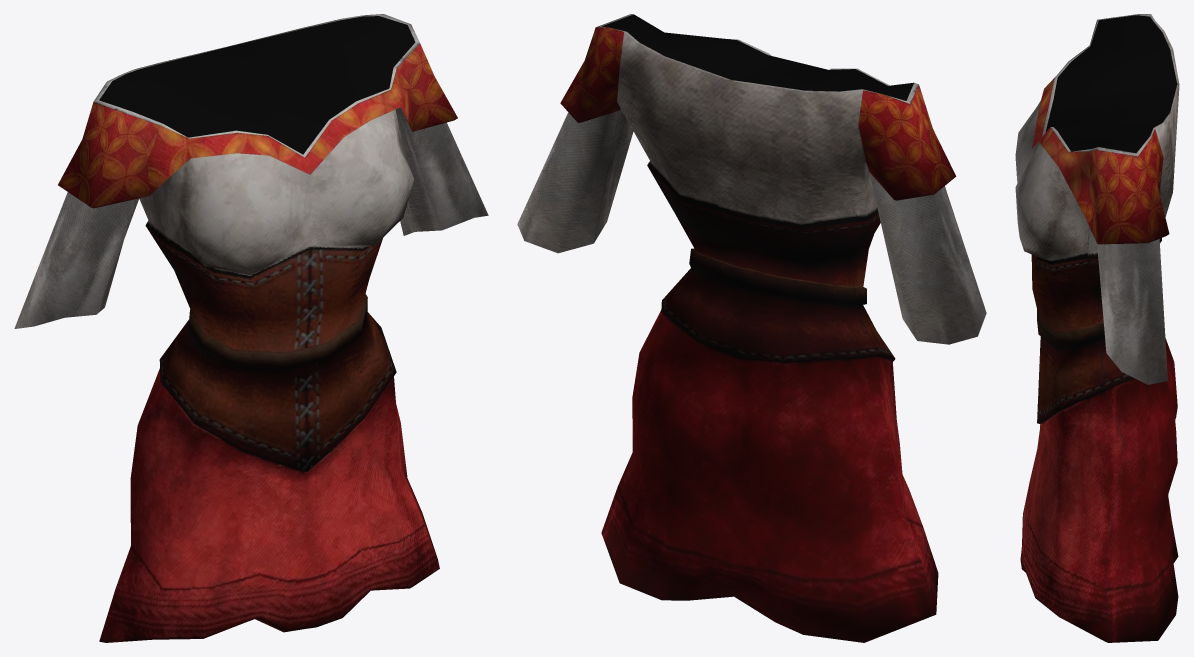
The model's file is STATIC_GS_SLAV_BABE_02_KOZA.glb.
The picture shows the model from 3 angles, left to right: view 1: azimuth 30°, elevation 25°; view 2: azimuth 150°, elevation 25°; view 3: azimuth 270°, elevation 25°; orthographic projection. The views are drawn at different scales.
Visible parts, largest first — view 1: Mesh; view 2: Mesh; view 3: Mesh.
Part boxes in pixels (x1,y1,x2,y2): Mesh: [14, 14, 488, 642]; Mesh: [517, 14, 986, 642]; Mesh: [1015, 14, 1179, 642].
Bounding box in the file's own units: 0.6236 × 0.7127 × 0.2074.
1 material, 1 textured.
